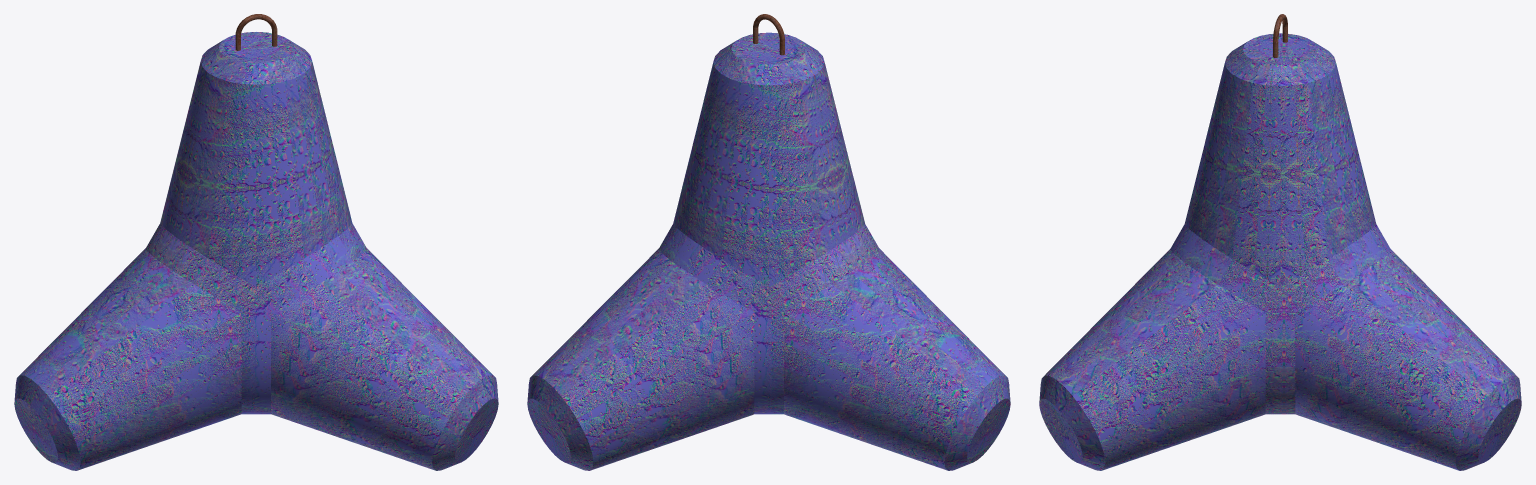
File: tetrapods.glb
3 renders of one model, left to right at view 1: azimuth 30°, elevation 25°; view 2: azimuth 150°, elevation 25°; view 3: azimuth 270°, elevation 25°, orthographic.
Visible parts, largest first — view 1: Object_3, Object_2; view 2: Object_3; view 3: Object_3.
Part boxes in pixels (bbox=[...]): Object_3: bbox=[14, 32, 498, 470]; Object_2: bbox=[235, 14, 277, 50]; Object_3: bbox=[527, 32, 1010, 470]; Object_3: bbox=[1039, 33, 1521, 470].
Bounding box in the file's own units: 1595 × 1635 × 1769.
Materials: 2 (2 with a texture image).
